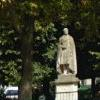Statue: (47, 20, 84, 88)
